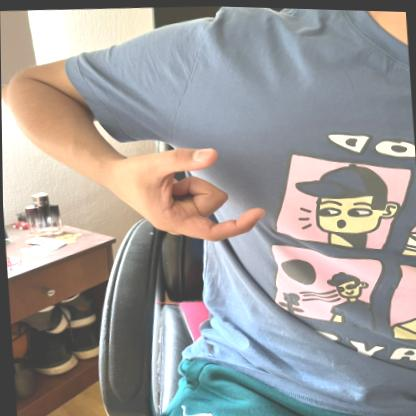G: (106, 133, 271, 245)
